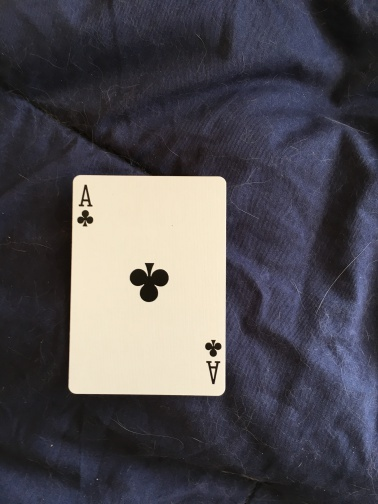ace: (72, 175, 224, 394)
